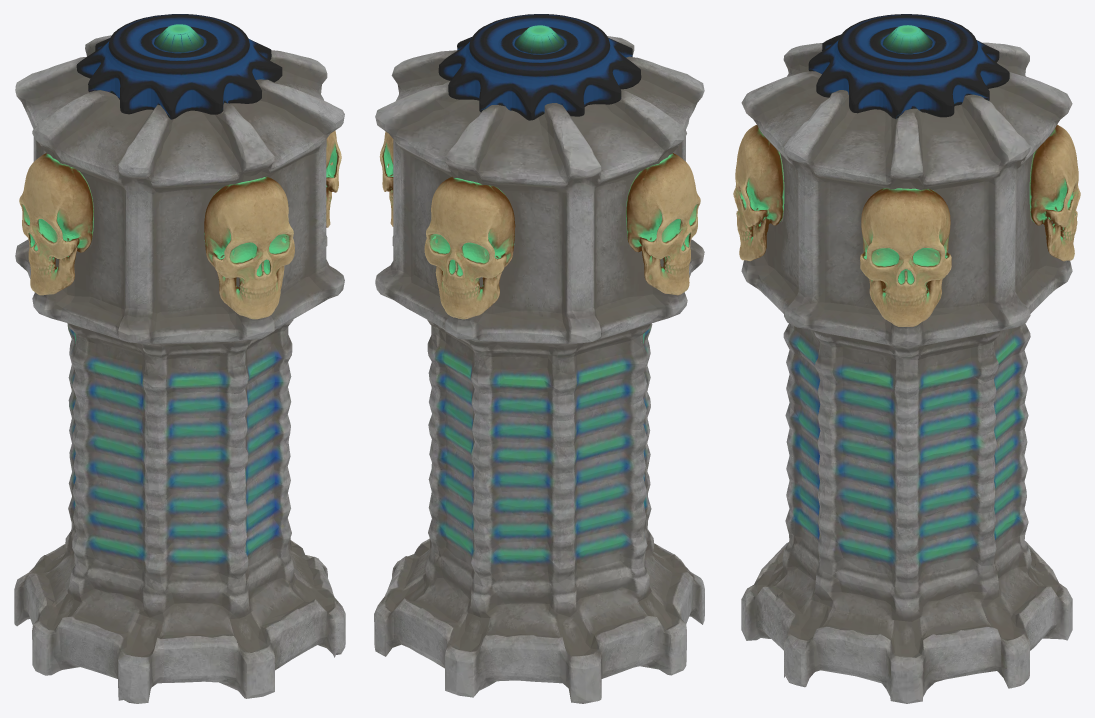
The model's file is MZ4250 - Mabaran Resonator.glb.
The picture shows the model from 3 angles, left to right: view 1: azimuth 30°, elevation 25°; view 2: azimuth 150°, elevation 25°; view 3: azimuth 270°, elevation 25°; orthographic projection.
Visible parts, largest first — view 1: Cube.002; view 2: Cube.002; view 3: Cube.002.
Part boxes in pixels (left/top/right/bottom): Cube.002: left=14, top=14, right=345, bottom=703; Cube.002: left=374, top=14, right=704, bottom=703; Cube.002: left=733, top=14, right=1080, bottom=703.
Bounding box in the file's own units: 2.99 × 5.74 × 2.99.
Materials: 3 (3 with a texture image).
